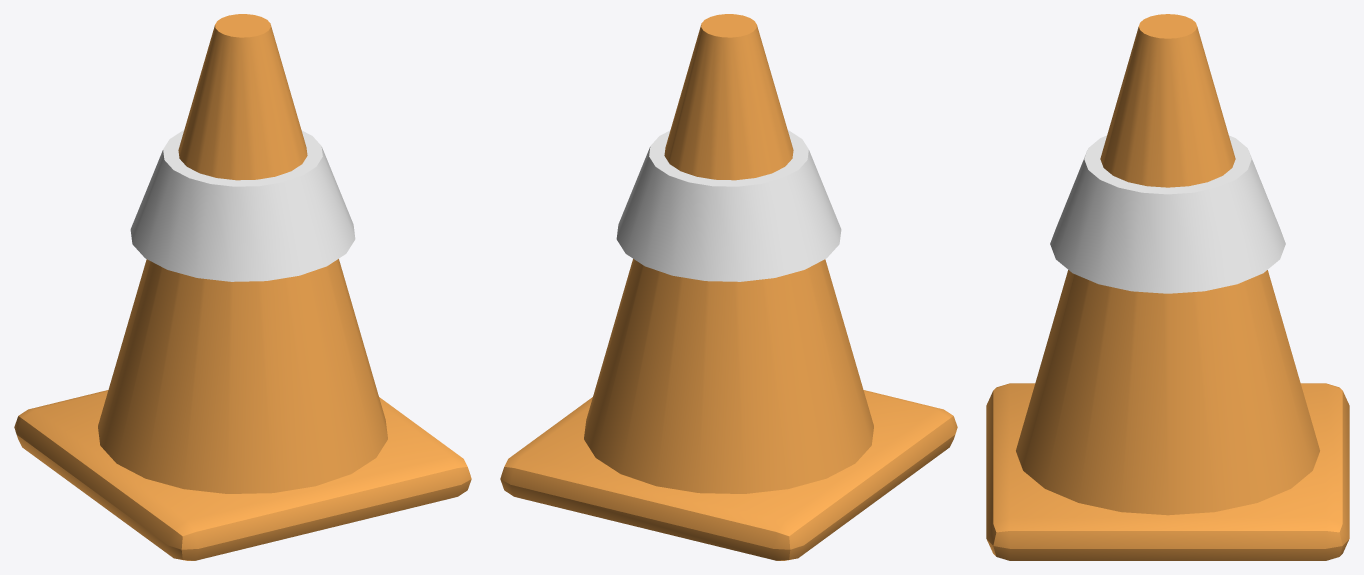
The picture shows the model from 3 angles, left to right: view 1: azimuth 30°, elevation 25°; view 2: azimuth 150°, elevation 25°; view 3: azimuth 270°, elevation 25°; orthographic projection. The views are drawn at different scales.
Parts seen in each view (by area): view 1: ConeBody, ConeBase, ConeStripe; view 2: ConeBody, ConeBase, ConeStripe; view 3: ConeBody, ConeBase, ConeStripe.
Boxes of the visible parts, box(x1,y1,x2,y2) form: ConeBody: box(98, 14, 387, 493); ConeBase: box(14, 390, 471, 560); ConeStripe: box(130, 130, 355, 281); ConeBody: box(584, 14, 873, 493); ConeBase: box(500, 390, 957, 560); ConeStripe: box(616, 130, 841, 281); ConeBody: box(1016, 14, 1319, 515); ConeBase: box(986, 383, 1349, 560); ConeStripe: box(1050, 135, 1285, 293).
Size of the model in its own units: 0.62 by 0.88 by 0.62.
